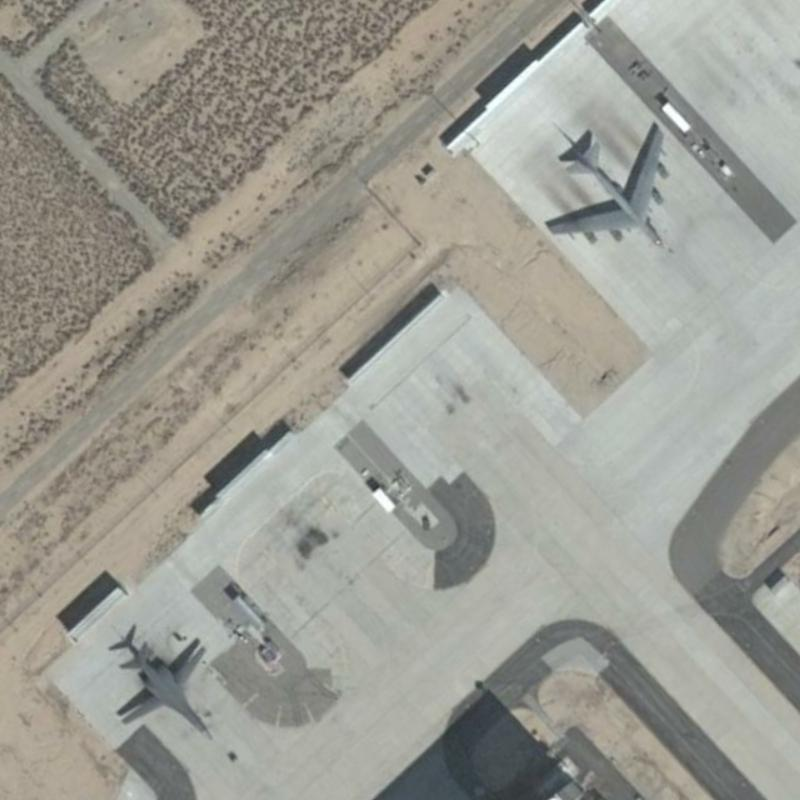A10: (105, 630, 220, 746)
A8: (532, 115, 677, 260)
